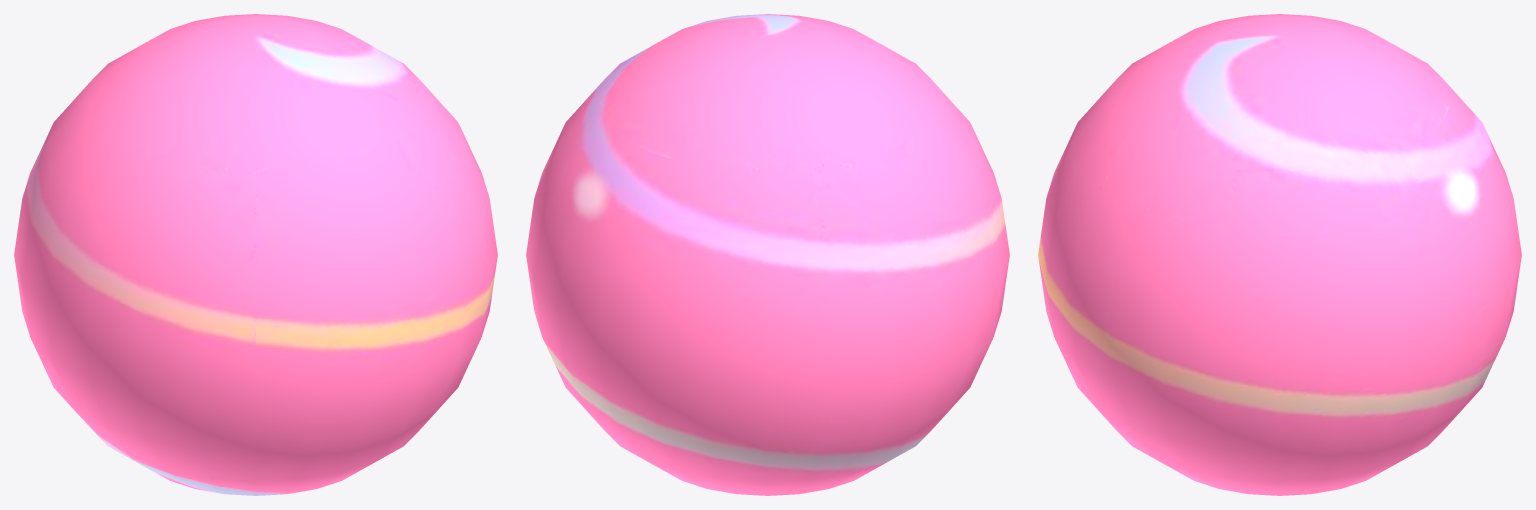
The picture shows the model from 3 angles, left to right: view 1: azimuth 30°, elevation 25°; view 2: azimuth 150°, elevation 25°; view 3: azimuth 270°, elevation 25°; orthographic projection.
Parts seen in each view (by area): view 1: glow_Rainbow_sugar_pearl_glaze; view 2: glow_Rainbow_sugar_pearl_glaze; view 3: glow_Rainbow_sugar_pearl_glaze.
Boxes of the visible parts, <box> form: glow_Rainbow_sugar_pearl_glaze: <box>14,14,497,495</box>; glow_Rainbow_sugar_pearl_glaze: <box>526,14,1009,495</box>; glow_Rainbow_sugar_pearl_glaze: <box>1038,14,1521,495</box>.
Size of the model in its own units: 0.98 by 0.95 by 0.98.
Materials: 1 (1 with a texture image).
